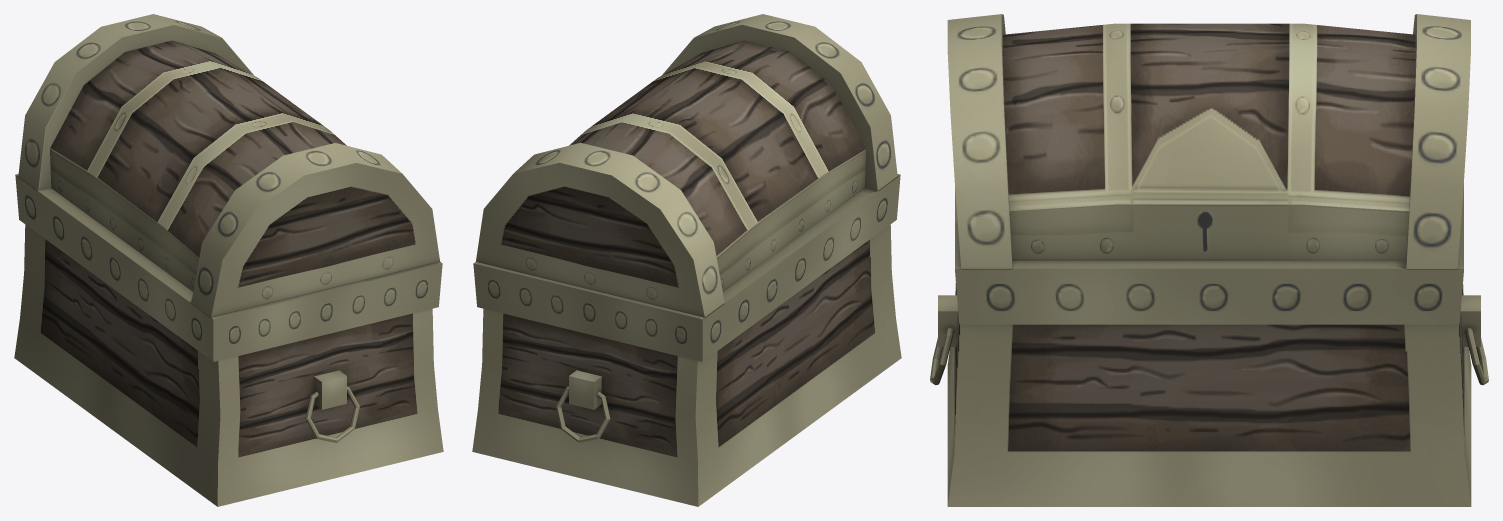
The model's file is treasure_chest.obj.
The picture shows the model from 3 angles, left to right: view 1: azimuth 30°, elevation 25°; view 2: azimuth 150°, elevation 25°; view 3: azimuth 270°, elevation 25°; orthographic projection. The views are drawn at different scales.
Parts seen in each view (by area): view 1: chest1 chest_base, chest_lid chest1; view 2: chest1 chest_base, chest_lid chest1; view 3: chest1 chest_base, chest_lid chest1.
Part boxes in pixels (left/top/right/bottom): chest1 chest_base: left=14, top=174, right=443, bottom=506; chest_lid chest1: left=18, top=14, right=439, bottom=317; chest1 chest_base: left=472, top=174, right=901, bottom=506; chest_lid chest1: left=476, top=14, right=897, bottom=317; chest1 chest_base: left=930, top=184, right=1488, bottom=506; chest_lid chest1: left=947, top=14, right=1470, bottom=268.
Size of the model in its own units: 0.7472 by 0.98 by 1.22.
Materials: 1 (1 with a texture image).
